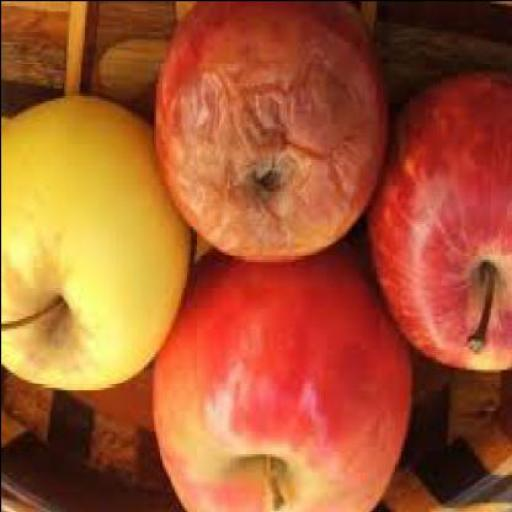biodegradable: (148, 242, 410, 511), (146, 2, 384, 261), (2, 92, 188, 393), (365, 69, 510, 374)
